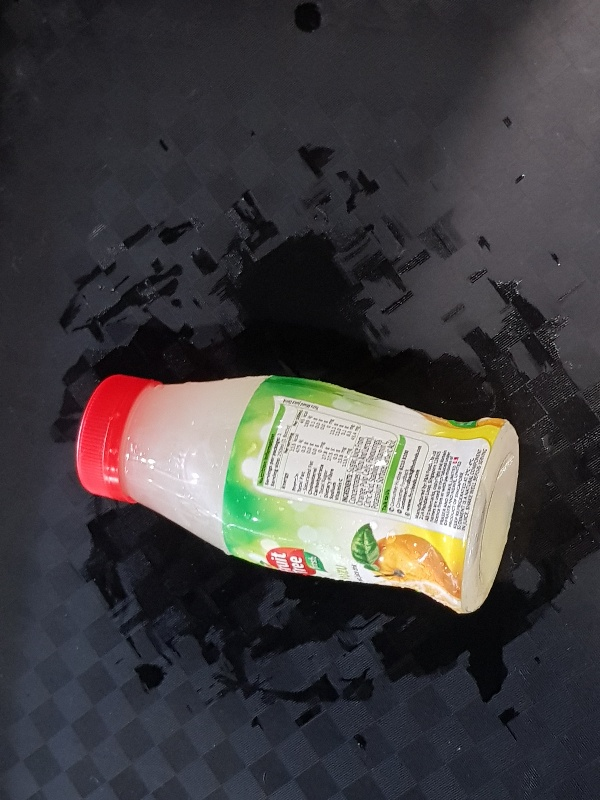Fruit Tree Yuzu Mixed Juice Drink: (72, 371, 523, 617)
